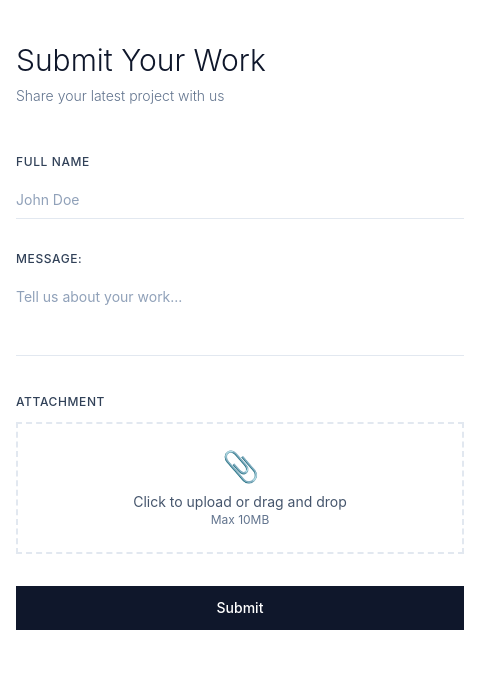
Scenario: App Component - Form Validation › clears errors when user types in field
The width and height of the screenshot is (481, 679).
Click the button "Submit" at (240,608), box [16,586,464,630]
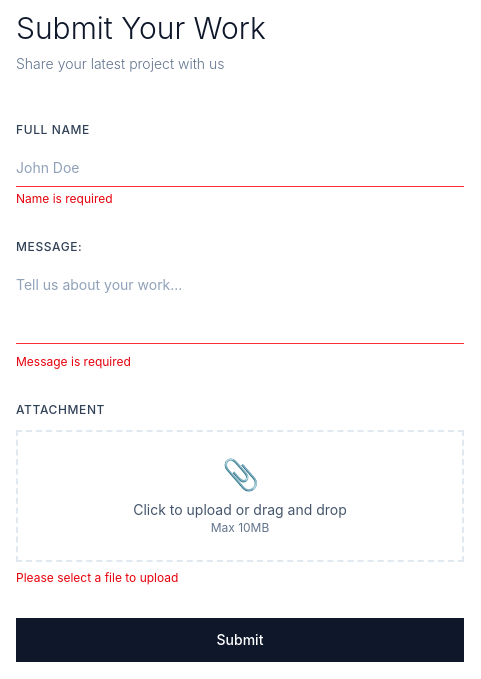
Expected: the text "Name is required" is shown, [16,191,113,206]
Type "John" into the field with placeholder "John Doe" at (240,168), box [16,150,464,187]
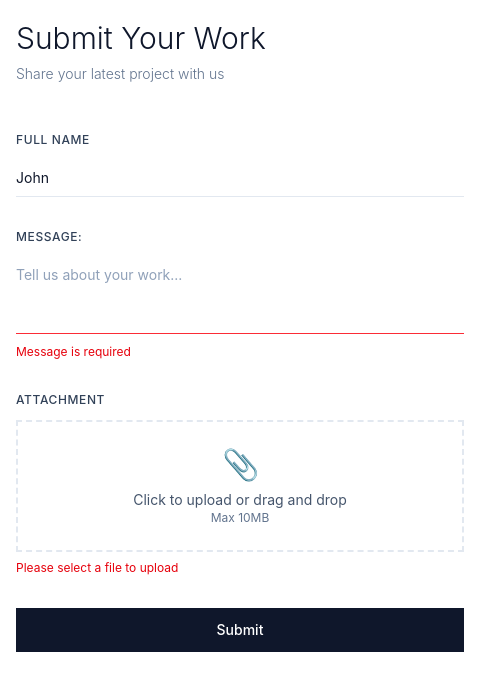
Expected: the text "Name is required" is gone
